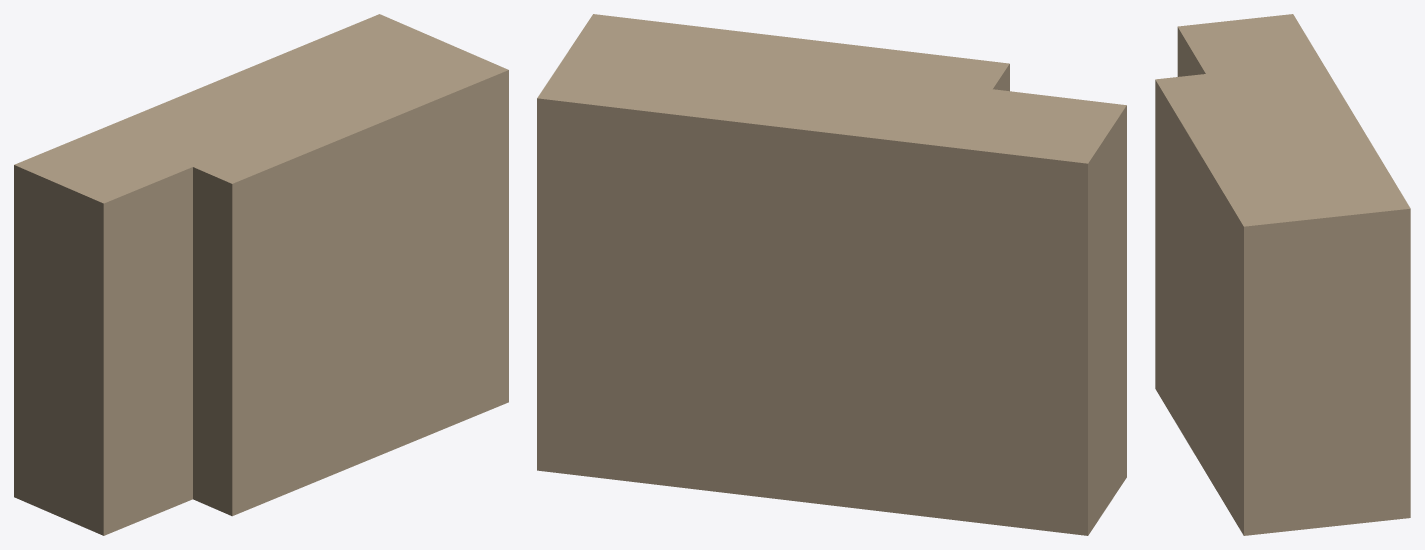
Rendered from bld_109034770.dae.
The picture shows the model from 3 angles, left to right: view 1: azimuth 30°, elevation 25°; view 2: azimuth 150°, elevation 25°; view 3: azimuth 270°, elevation 25°; orthographic projection. The views are drawn at different scales.
Visible parts, largest first — view 1: bld_109034770; view 2: bld_109034770; view 3: bld_109034770.
Part boxes in pixels (box(x1,y1,x2,y2)): bld_109034770: box(14, 14, 508, 535); bld_109034770: box(537, 14, 1126, 535); bld_109034770: box(1155, 14, 1410, 535).
Size of the model in its own units: 11.8 by 5.99 by 8.
